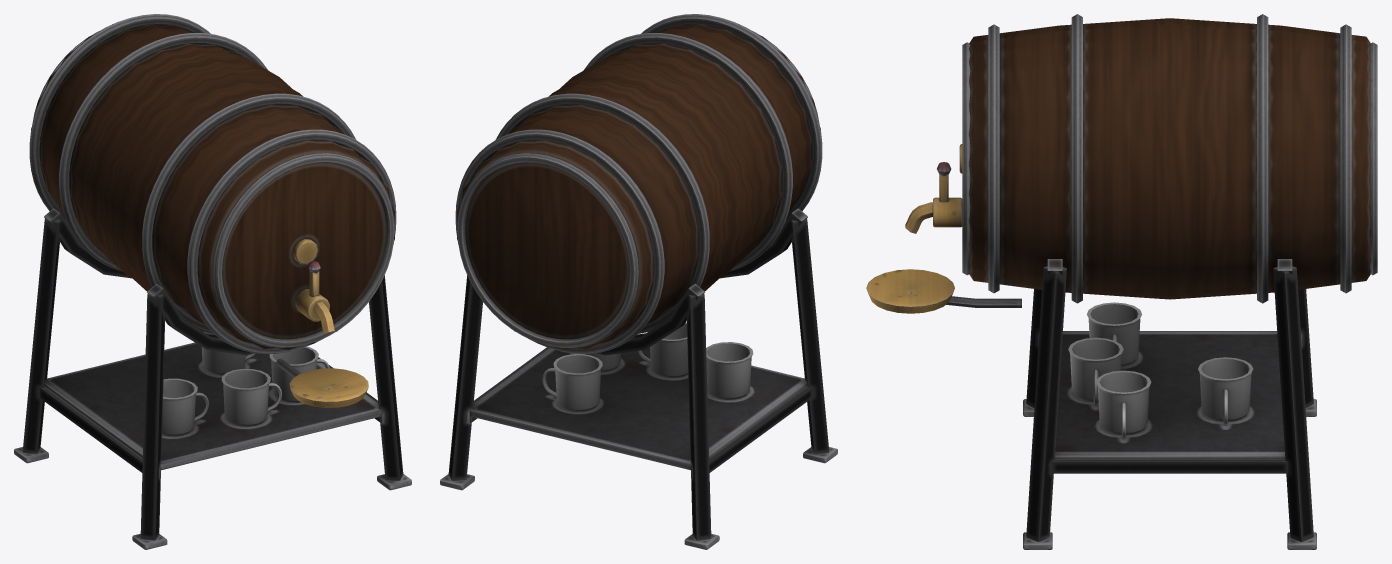
Rendered from WaterKeg.fbx.
The picture shows the model from 3 angles, left to right: view 1: azimuth 30°, elevation 25°; view 2: azimuth 150°, elevation 25°; view 3: azimuth 270°, elevation 25°; orthographic projection. The views are drawn at different scales.
Parts seen in each view (by area): view 1: WaterKeg; view 2: WaterKeg; view 3: WaterKeg.
Part boxes in pixels (<box>): WaterKeg: <box>14,14,411,549</box>; WaterKeg: <box>440,14,837,549</box>; WaterKeg: <box>866,14,1377,549</box>.
Size of the model in its own units: 186 by 268 by 276.
